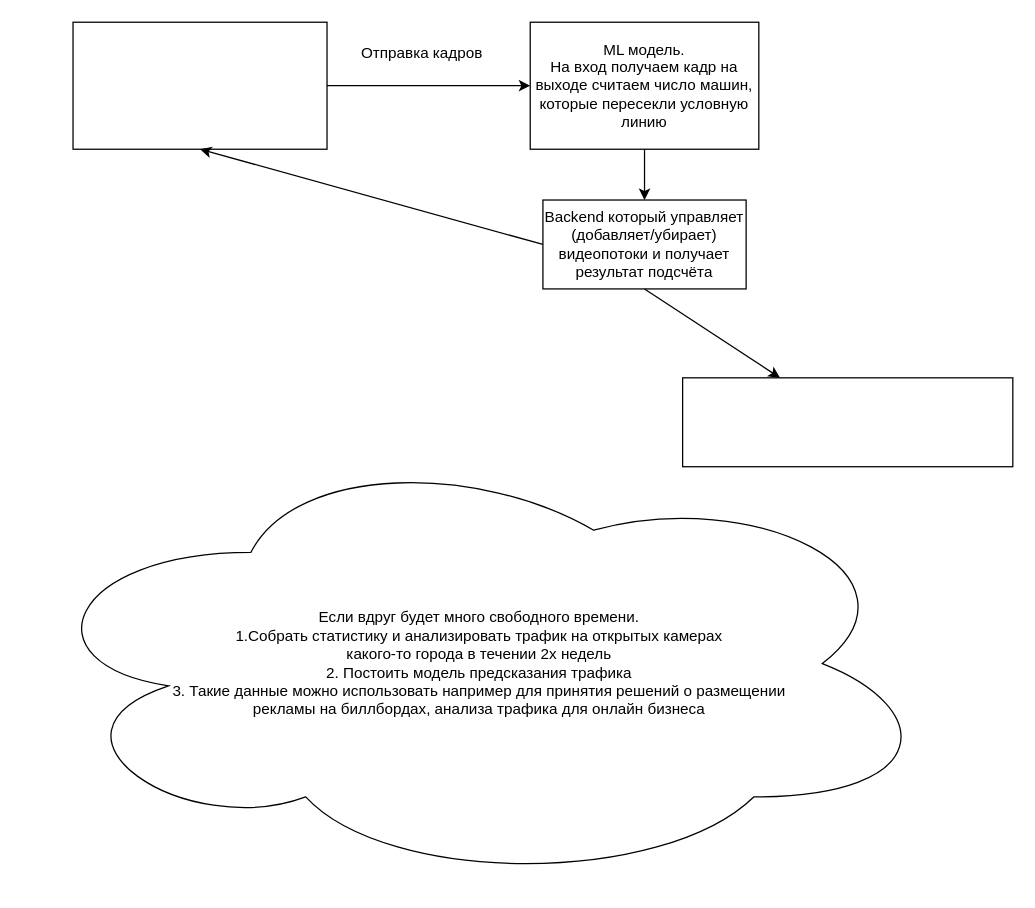
Some shapes in this 1035 by 908 pixel diagram are drawn without their labels. The shapes that lost their labels are listed below. From the top down, each one's centre as x and y in pixels, then its label:
[199,85]: Сервис получения видеопотока и отправки кадров на инференс
[847,422]: Приятный front на котором отображается статистика за прошедшую неделю
